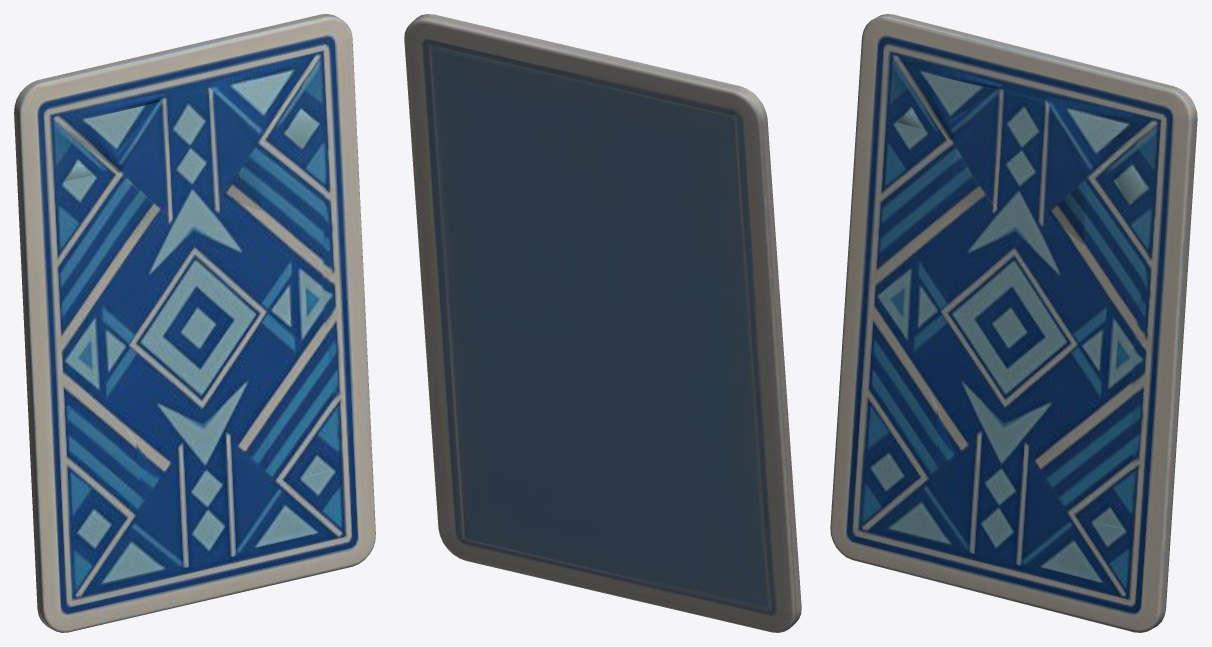
File: card.glb
3 views of the same model, side by side, from view 1: azimuth 30°, elevation 25°; view 2: azimuth 150°, elevation 25°; view 3: azimuth 330°, elevation 25° (orthographic). The views are drawn at different scales.
Parts seen in each view (by area): view 1: tripo_33ea5cd7_f2df_4ec1_a528_e4c5f1e8e998; view 2: tripo_33ea5cd7_f2df_4ec1_a528_e4c5f1e8e998; view 3: tripo_33ea5cd7_f2df_4ec1_a528_e4c5f1e8e998.
Boxes of the visible parts, x1,y1,x2,y2 form: tripo_33ea5cd7_f2df_4ec1_a528_e4c5f1e8e998: (14, 14, 375, 632); tripo_33ea5cd7_f2df_4ec1_a528_e4c5f1e8e998: (404, 14, 801, 632); tripo_33ea5cd7_f2df_4ec1_a528_e4c5f1e8e998: (830, 14, 1197, 632).
Bounding box in the file's own units: 0.6665 × 0.9995 × 0.1294.
Materials: 1 (1 with a texture image).
